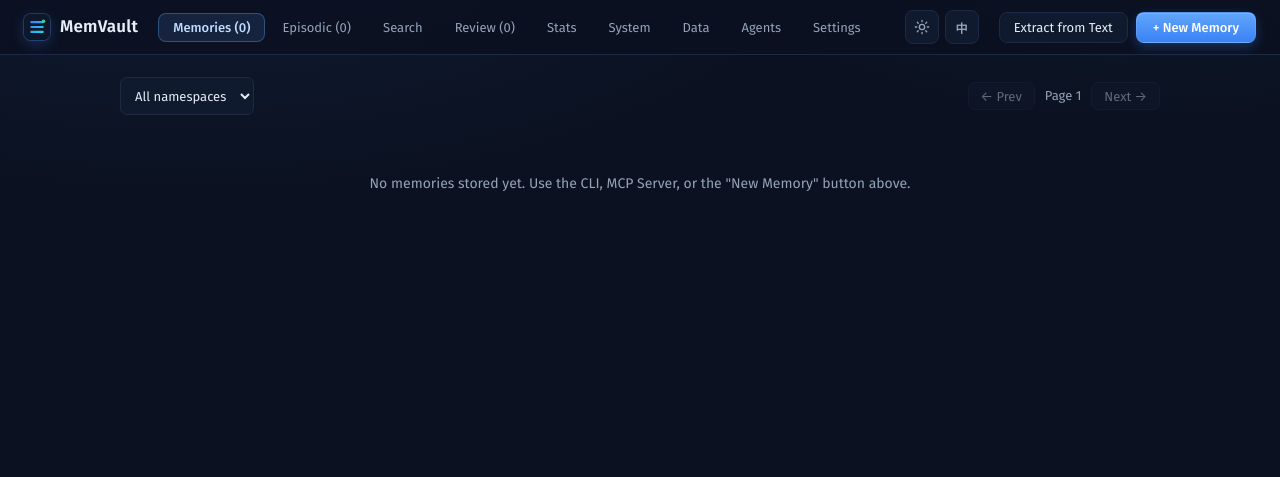
Test: Episodic tab › renders recorded episodes with status badges and lessons
The image size is (1280, 477).
Click the button "Episodic (0)": (317, 27) [267, 12, 366, 42]
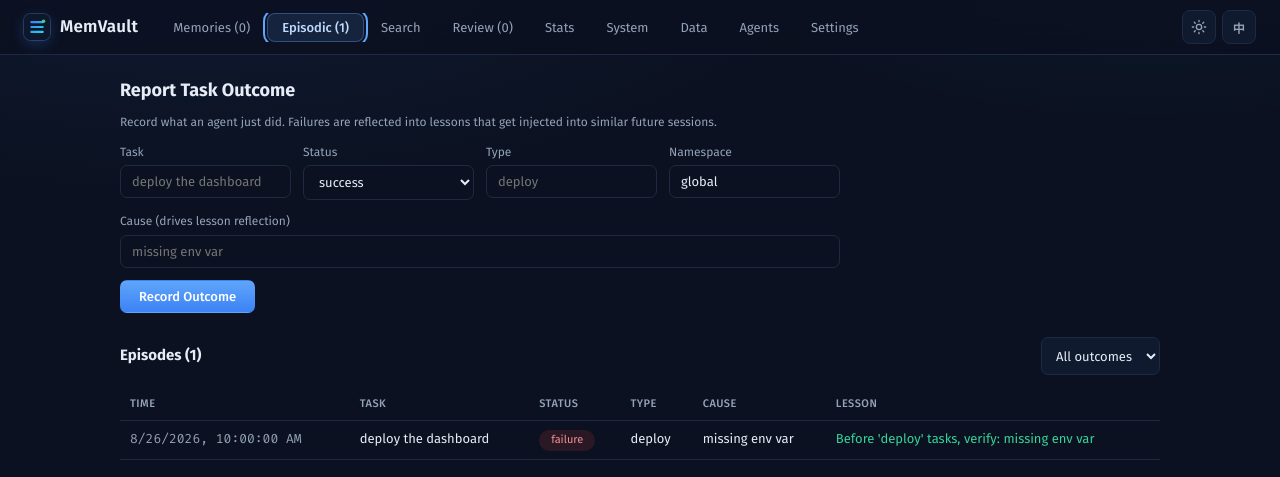
Expected: the text "deploy the dashboard" is shown, [350, 421, 529, 459]
Expected: the text "missing env var" is shown, [693, 421, 826, 459]
Expected: the text "Before 'deploy' tasks, verify: missing env var" is shown, [826, 421, 1160, 459]
